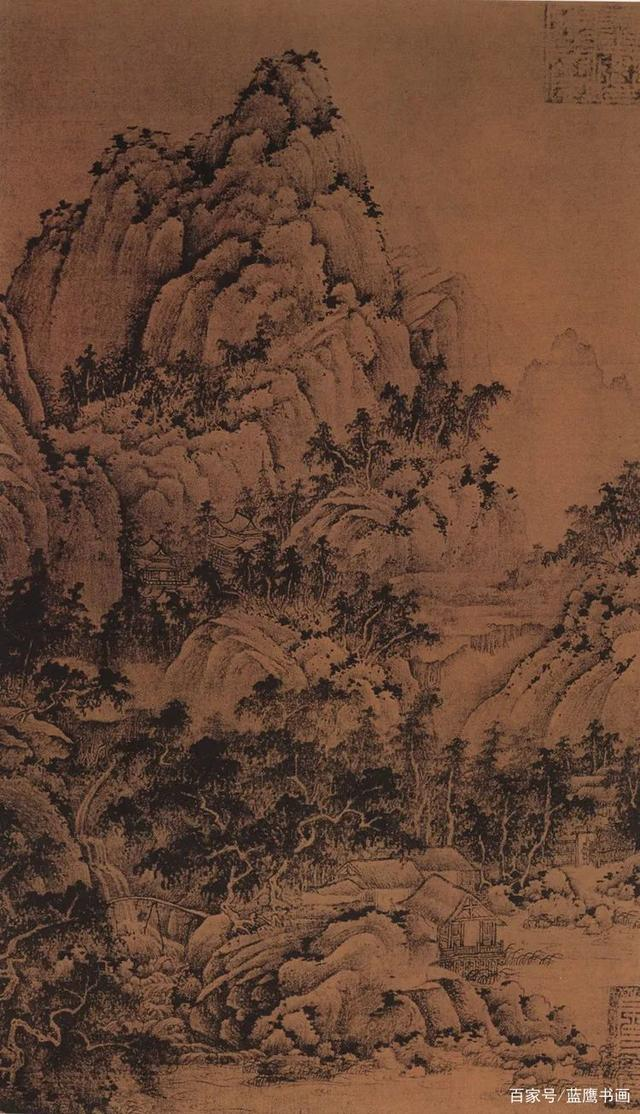bridge: (105, 891, 216, 950)
house: (409, 875, 510, 975), (314, 853, 479, 902), (559, 821, 614, 877), (568, 771, 622, 812)
mountain: (27, 54, 448, 616)
river: (114, 1060, 479, 1113)
tree: (158, 741, 289, 914), (396, 697, 466, 847), (399, 358, 487, 443), (8, 561, 70, 679), (230, 544, 329, 604), (148, 365, 230, 421), (312, 426, 387, 485), (587, 477, 629, 568), (70, 348, 136, 389)
waterfall: (76, 773, 141, 962)
